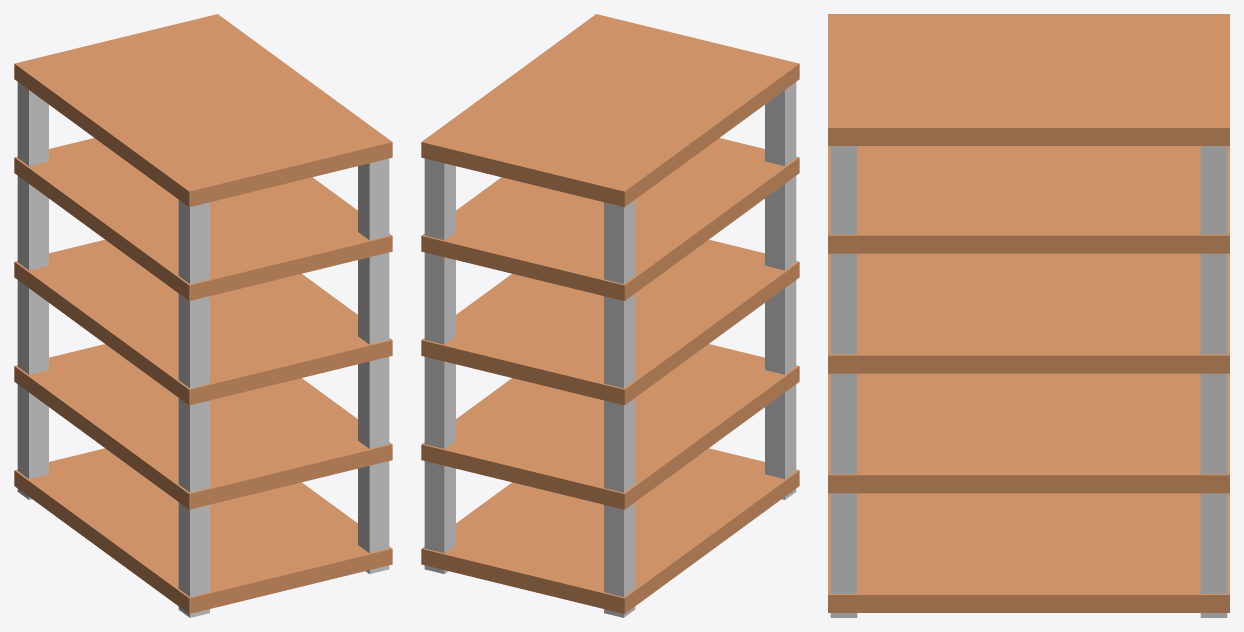
The model's file is ObstacleStorage.fbx.
3 renders of one model, left to right at view 1: azimuth 30°, elevation 25°; view 2: azimuth 150°, elevation 25°; view 3: azimuth 270°, elevation 25°, orthographic. The views are drawn at different scales.
Visible parts, largest first — view 1: ObstacleStorage; view 2: ObstacleStorage; view 3: ObstacleStorage.
Part boxes in pixels (bbox=[...]): ObstacleStorage: bbox=[14, 14, 392, 617]; ObstacleStorage: bbox=[421, 14, 799, 617]; ObstacleStorage: bbox=[828, 14, 1229, 617].
Bounding box in the file's own units: 2.04 × 4.1 × 3.04.
